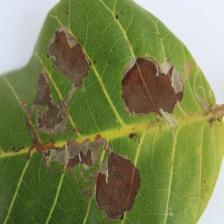leaf miner: (13, 19, 105, 155), (116, 47, 194, 129), (74, 144, 154, 223), (23, 130, 115, 186)
